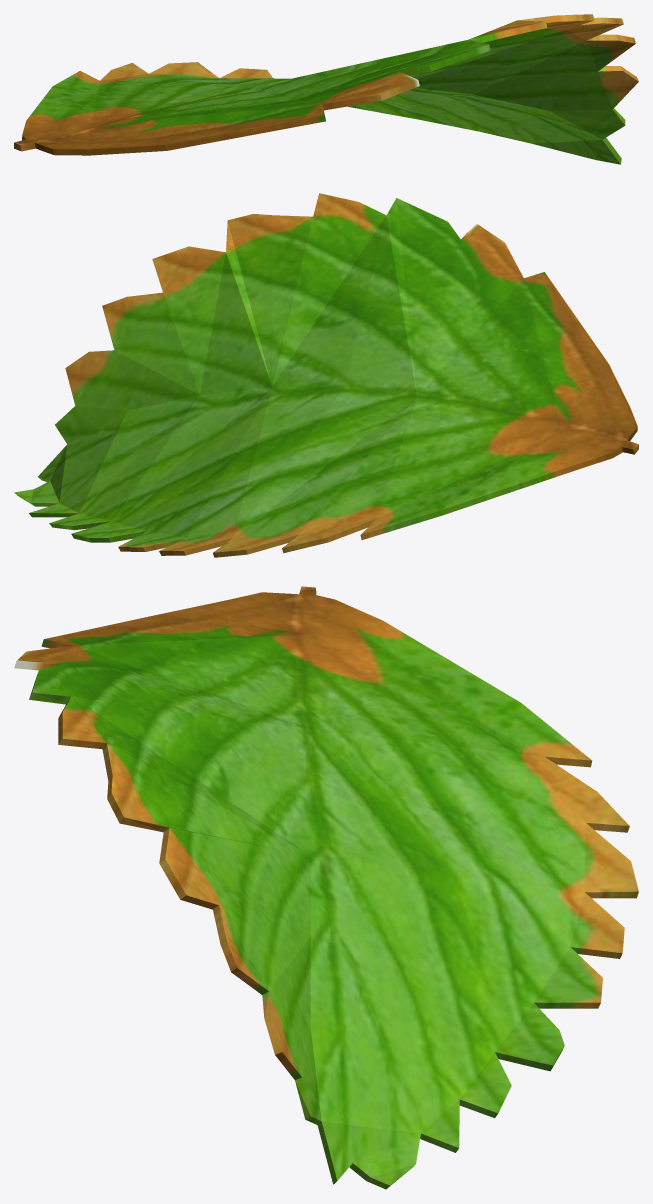
Rendered from leaf5_s2.dae.
3 renders of one model, top to bottom at view 1: azimuth 30°, elevation 25°; view 2: azimuth 150°, elevation 25°; view 3: azimuth 270°, elevation 25°, orthographic. The views are drawn at different scales.
Parts seen in each view (by area): view 1: Plane; view 2: Plane; view 3: Plane.
Boxes of the visible parts, left/top/right/bottom form: Plane: left=14, top=14, right=638, bottom=164; Plane: left=14, top=193, right=638, bottom=557; Plane: left=14, top=586, right=638, bottom=1189.
Size of the model in its own units: 0.1375 by 0.0957 by 0.0575.
1 material, 1 textured.
